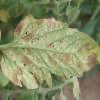Tomato mold leaf: (1, 11, 99, 95)
